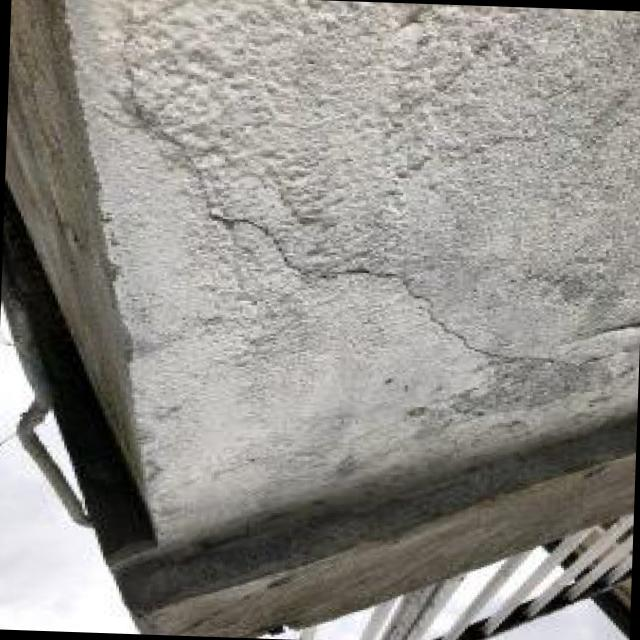crack: (217, 214, 514, 361), (117, 36, 227, 218)
